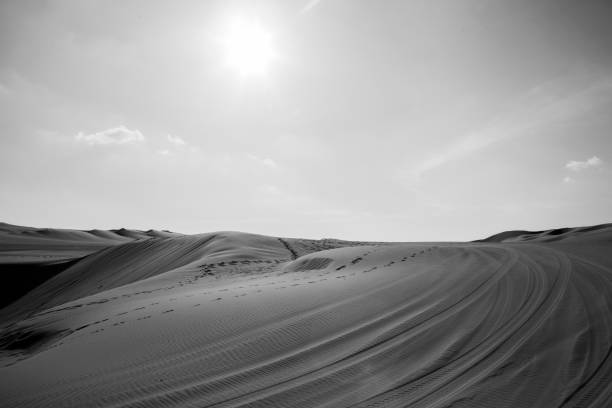vehicle_track: (3, 243, 611, 407), (411, 251, 570, 406), (561, 293, 611, 407)
